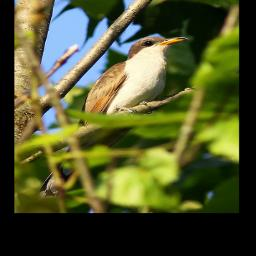Cuckoo: (34, 32, 192, 201)
